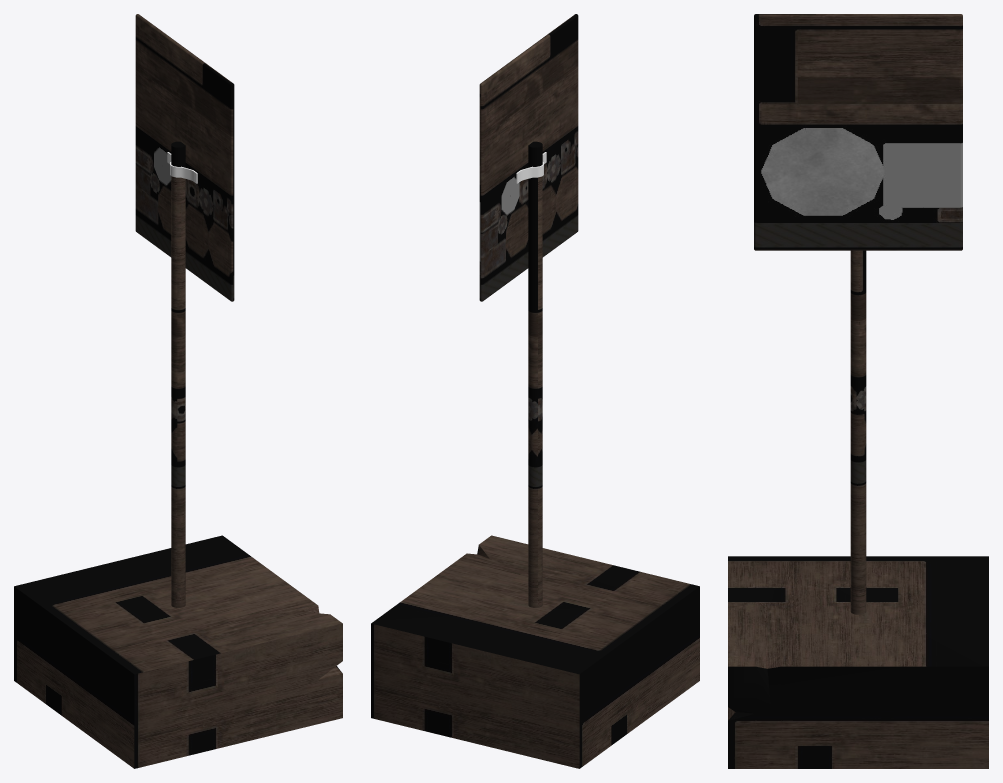
The picture shows the model from 3 angles, left to right: view 1: azimuth 30°, elevation 25°; view 2: azimuth 150°, elevation 25°; view 3: azimuth 270°, elevation 25°; orthographic projection. The views are drawn at different scales.
Visible parts, largest first — view 1: Cube, Cube_1, Cylinder; view 2: Cube, Cube_1, Cylinder; view 3: Cube, Cube_1, Cylinder.
Boxes of the visible parts, x1=… form: Cube: x1=14, y1=535, x2=342, y2=768; Cube_1: x1=135, y1=14, x2=234, y2=301; Cylinder: x1=171, y1=141, x2=185, y2=607; Cube: x1=371, y1=535, x2=699, y2=768; Cube_1: x1=479, y1=14, x2=578, y2=301; Cylinder: x1=528, y1=141, x2=542, y2=607; Cube: x1=728, y1=556, x2=988, y2=768; Cube_1: x1=754, y1=14, x2=962, y2=250; Cylinder: x1=850, y1=250, x2=866, y2=614.
Bounding box in the file's own units: 200 × 595 × 200.
